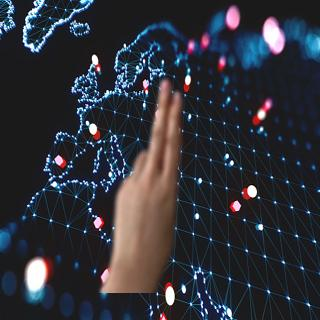DHAVE: (104, 76, 189, 279)
